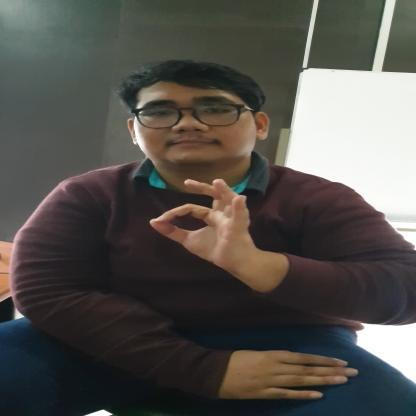O: (146, 179, 251, 264)
